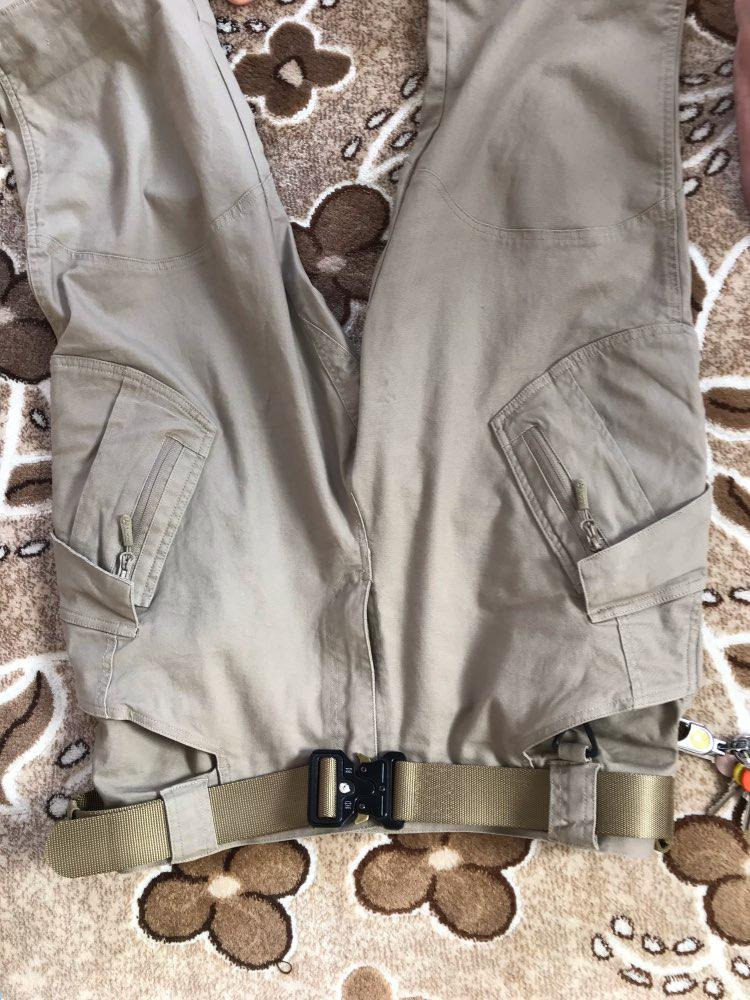pants: (1, 1, 715, 866)
